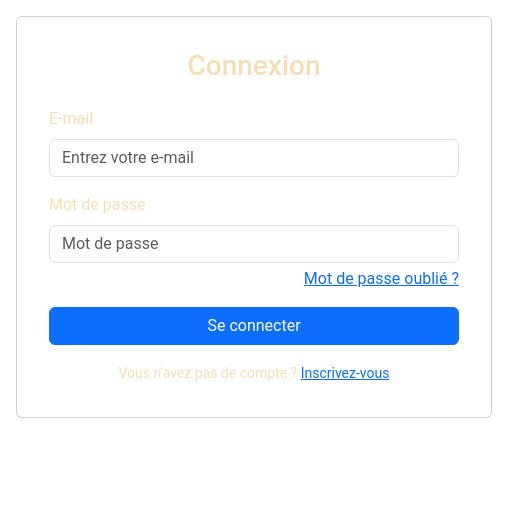
Test: LoginComponent.vue › affiche une erreur si le login échoue
Type "wrong@example.com" into the field with id "email" at (254, 158), box [49,139,459,177]
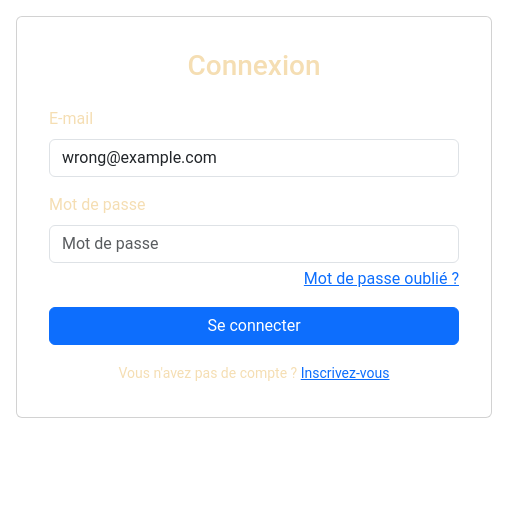
Type "wrongpassword" into the password field with placeholder "Mot de passe" at (254, 244), box [49,225,459,263]
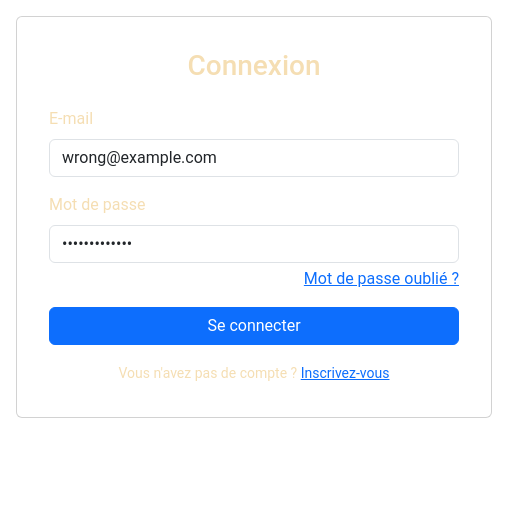
Submit the form, box [49,107,459,345]
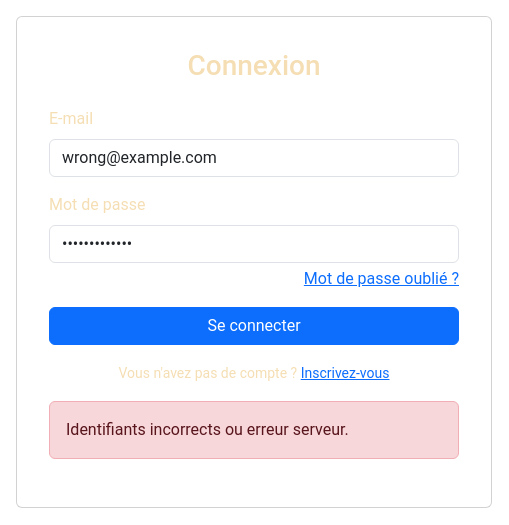
Expected: the text "Identifiants incorrects ou erreur serveur." is shown, [49,401,459,459]
